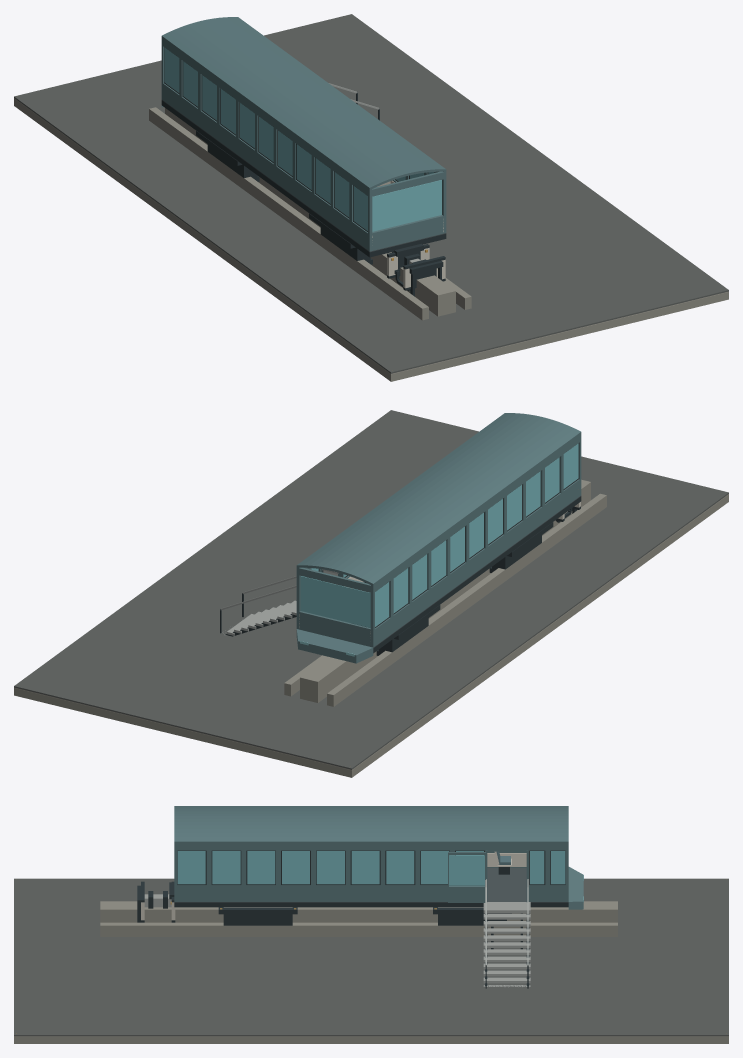
3 renders of one model, top to bottom at view 1: azimuth 30°, elevation 25°; view 2: azimuth 150°, elevation 25°; view 3: azimuth 270°, elevation 25°, orthographic. The views are drawn at different scales.
Visible parts, largest first — view 1: 石铺面与混凝土承板, 独立乘舱壳、真实窗封和常开侧舱口, 对应模式导轨与明确机械止挡, 轻轨轮架和磁浮导向底座组件 (×2), 列车车厢端连挂组件, 静态车钩尾端检修承架; view 2: 石铺面与混凝土承板, 独立乘舱壳、真实窗封和常开侧舱口, 对应模式导轨与明确机械止挡, 可登离实体踏步与连续金属梯梁, 连续倾斜前围与分离光学灯, 轻轨轮架和磁浮导向底座组件 (×2); view 3: 石铺面与混凝土承板, 独立乘舱壳、真实窗封和常开侧舱口, 对应模式导轨与明确机械止挡, 可登离实体踏步与连续金属梯梁, 轻轨轮架和磁浮导向底座组件 (×2), 列车车厢端连挂组件, 连续倾斜前围与分离光学灯.
Boxes of the visible parts, box(x1,y1,x2,y2) form: 石铺面与混凝土承板: box(14, 14, 728, 381); 独立乘舱壳、真实窗封和常开侧舱口: box(161, 17, 446, 257); 对应模式导轨与明确机械止挡: box(149, 107, 471, 320); 轻轨轮架和磁浮导向底座组件 (×2): box(196, 130, 372, 264); 列车车厢端连挂组件: box(387, 244, 445, 291); 静态车钩尾端检修承架: box(392, 243, 443, 296); 石铺面与混凝土承板: box(14, 410, 728, 777); 独立乘舱壳、真实窗封和常开侧舱口: box(296, 413, 581, 653); 对应模式导轨与明确机械止挡: box(284, 479, 606, 706); 可登离实体踏步与连续金属梯梁: box(220, 569, 338, 636); 连续倾斜前围与分离光学灯: box(296, 629, 373, 663); 轻轨轮架和磁浮导向底座组件 (×2): box(376, 522, 553, 655); 石铺面与混凝土承板: box(14, 878, 728, 1043); 独立乘舱壳、真实窗封和常开侧舱口: box(174, 806, 568, 907); 对应模式导轨与明确机械止挡: box(100, 901, 617, 936); 可登离实体踏步与连续金属梯梁: box(483, 879, 530, 988); 轻轨轮架和磁浮导向底座组件 (×2): box(218, 907, 511, 925); 列车车厢端连挂组件: box(141, 881, 175, 922); 连续倾斜前围与分离光学灯: box(568, 867, 583, 909).
Size of the model in its own units: 15 by 5.17 by 29.
19 materials, 19 textured.
